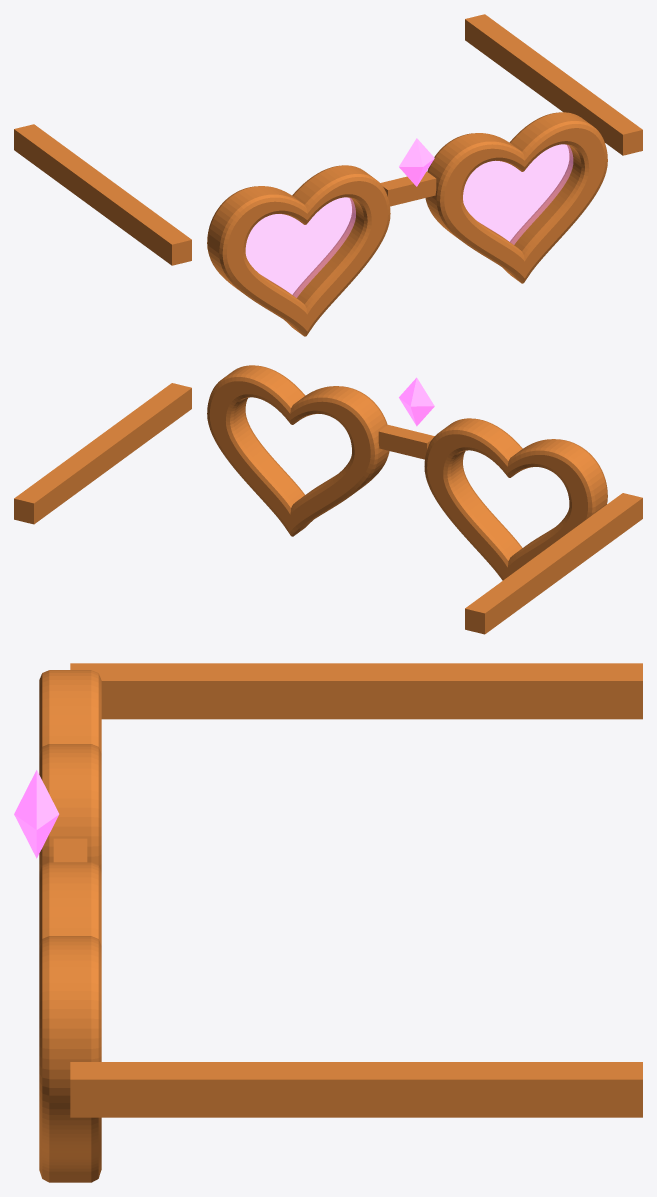
Rendered from gl_eqmo3.glb.
3 views of the same model, one above another, from view 1: azimuth 30°, elevation 25°; view 2: azimuth 150°, elevation 25°; view 3: azimuth 270°, elevation 25° (orthographic). The views are drawn at different scales.
Bounding box in the file's own units: 1.8 × 0.6398 × 1.15.
